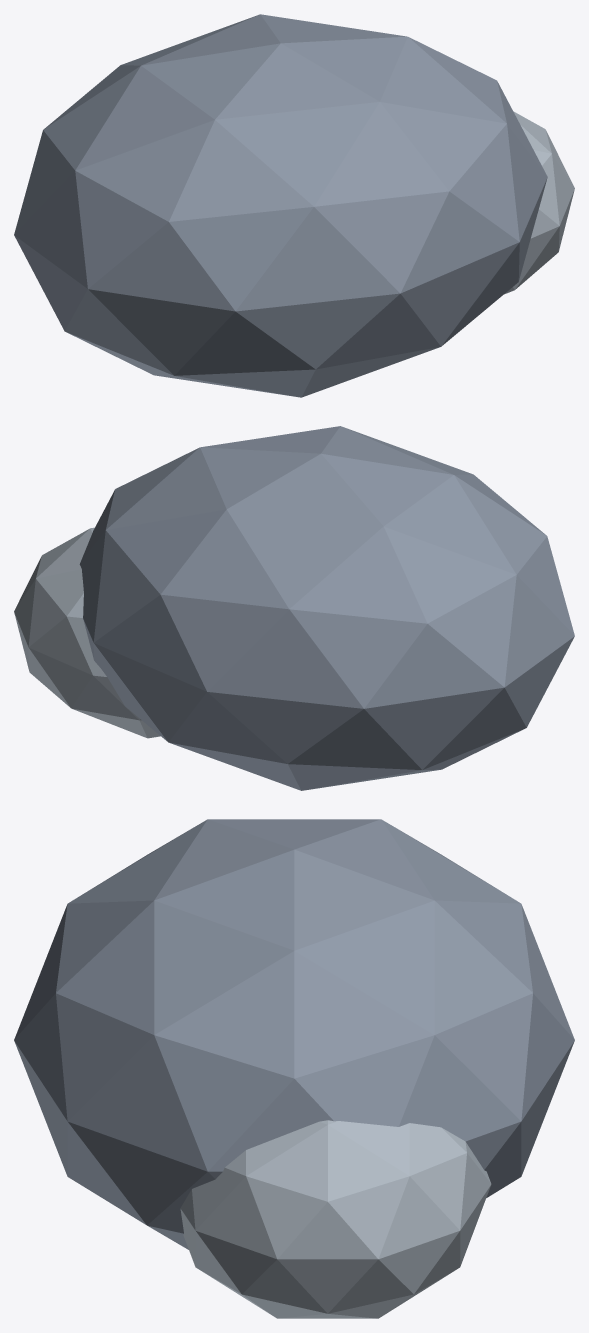
Rendered from Ski_Rock.fbx.
The picture shows the model from 3 angles, top to bottom: view 1: azimuth 30°, elevation 25°; view 2: azimuth 150°, elevation 25°; view 3: azimuth 270°, elevation 25°; orthographic projection. The views are drawn at different scales.
Visible parts, largest first — view 1: Rock; view 2: Rock; view 3: Rock.
Boxes of the visible parts, bbox=[...] form: Rock: bbox=[14, 14, 574, 397]; Rock: bbox=[14, 426, 574, 790]; Rock: bbox=[14, 819, 574, 1318].
Bounding box in the file's own units: 2.09 × 1.26 × 1.68.
